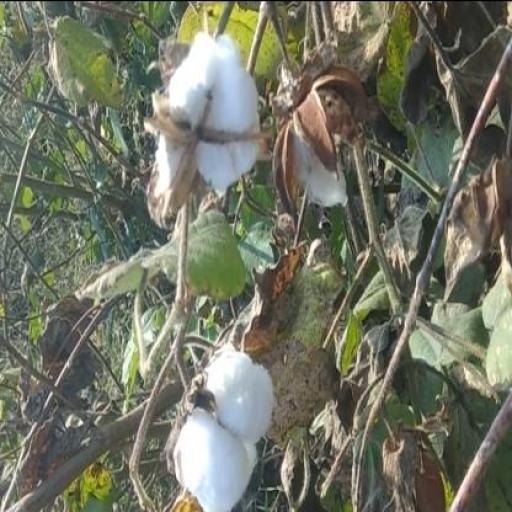cotton_ready: (137, 19, 269, 248), (167, 344, 285, 504)
